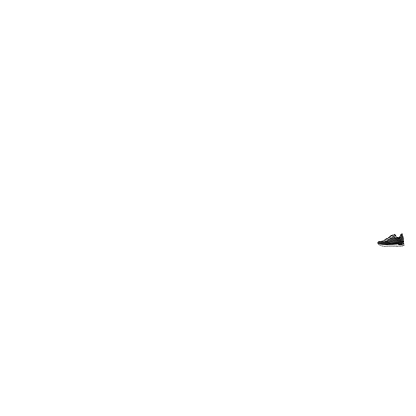Sneaker: (377, 226, 405, 254)
